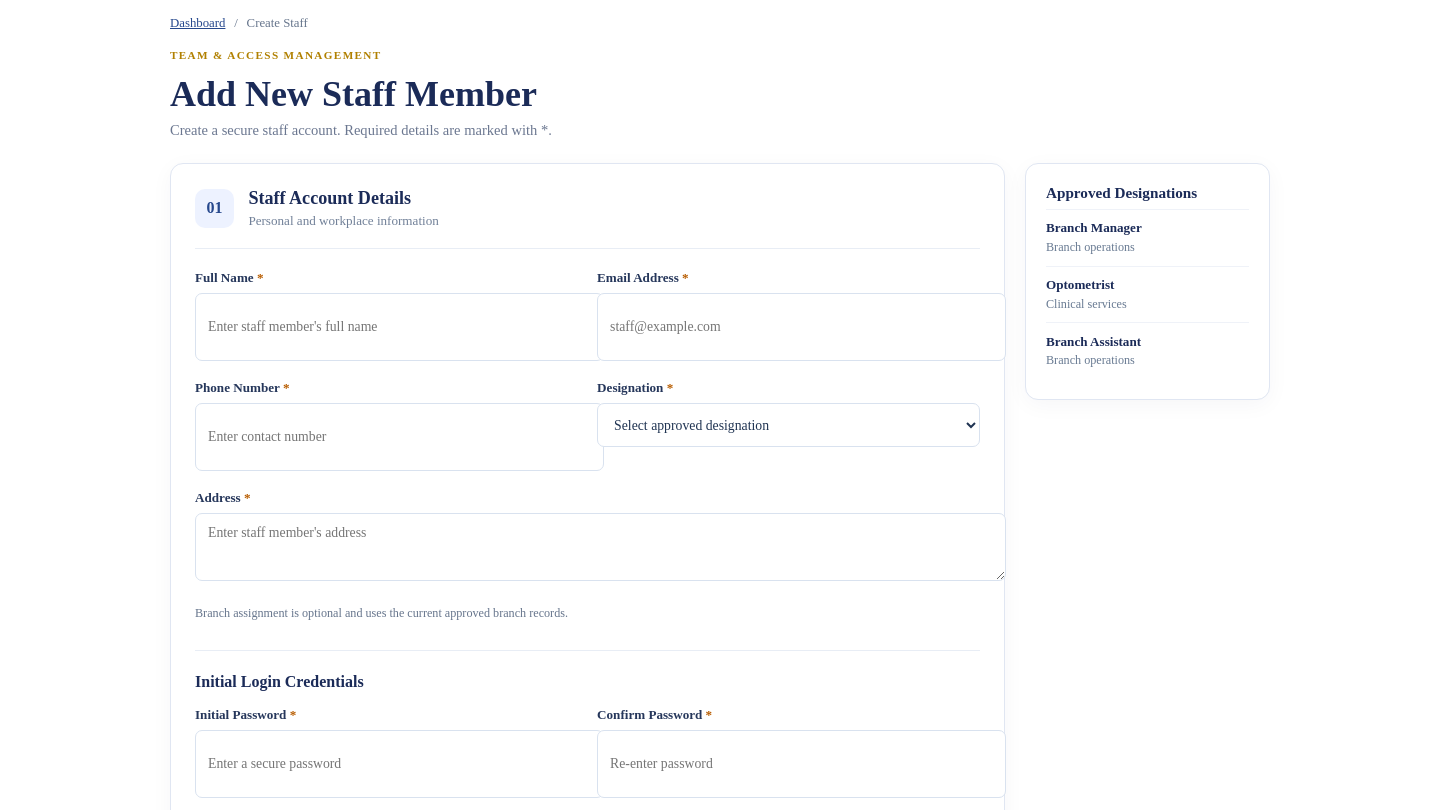
Test case: AdminStaffCreatePage › submits the approved fields, excludes confirmPassword and shows safe success
Type "Nimal Perera" into the field labelled "Full Name *" at (399,327), box [195,293,604,361]
Type "NIMAL@example.com" into the field labelled "Email Address *" at (802,327), box [597,293,1006,361]
Type "0771234567" into the field labelled "Phone Number *" at (399,437), box [195,403,604,471]
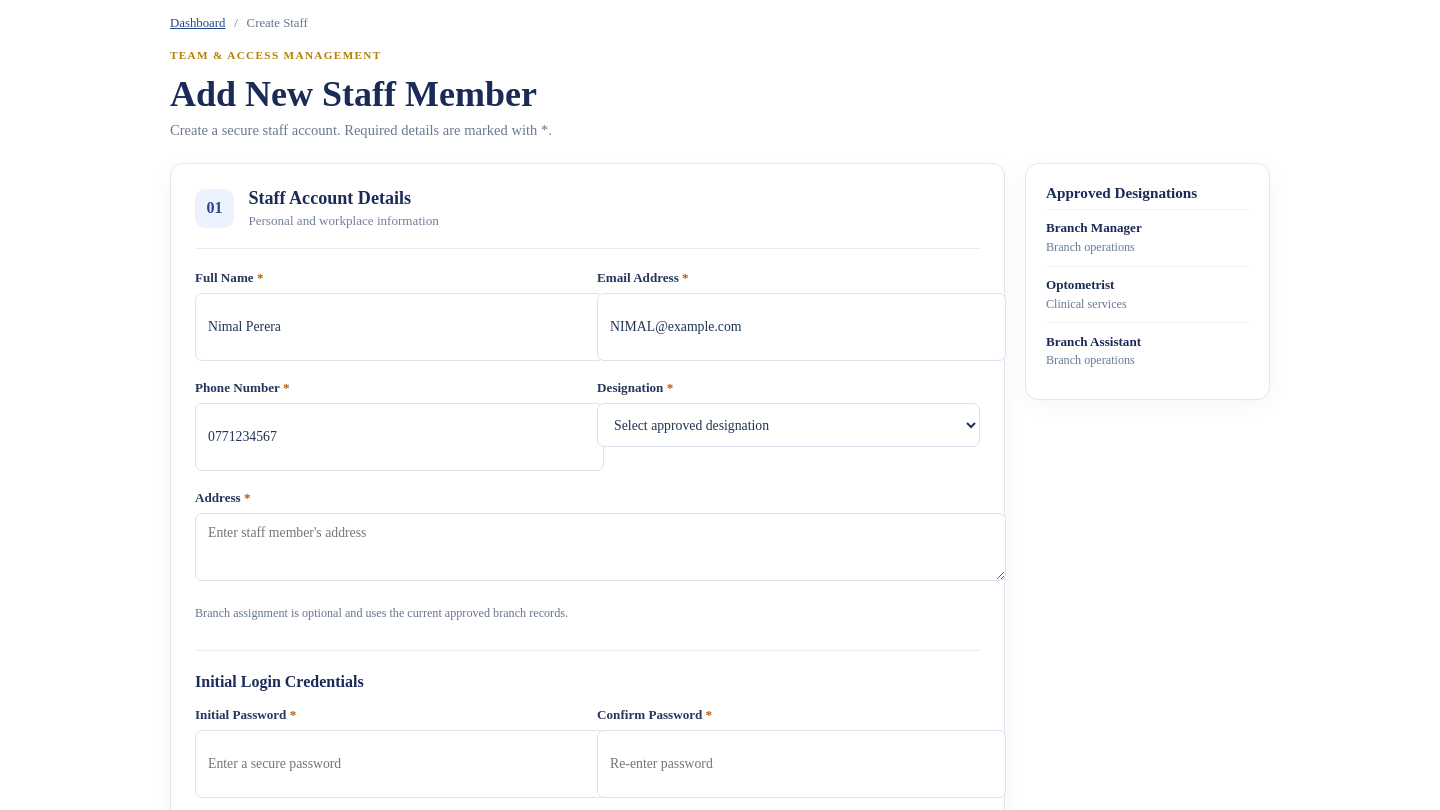
Type "15 Main Street" into the text box labelled "Address *" at (600,547), box [195,513,1006,581]
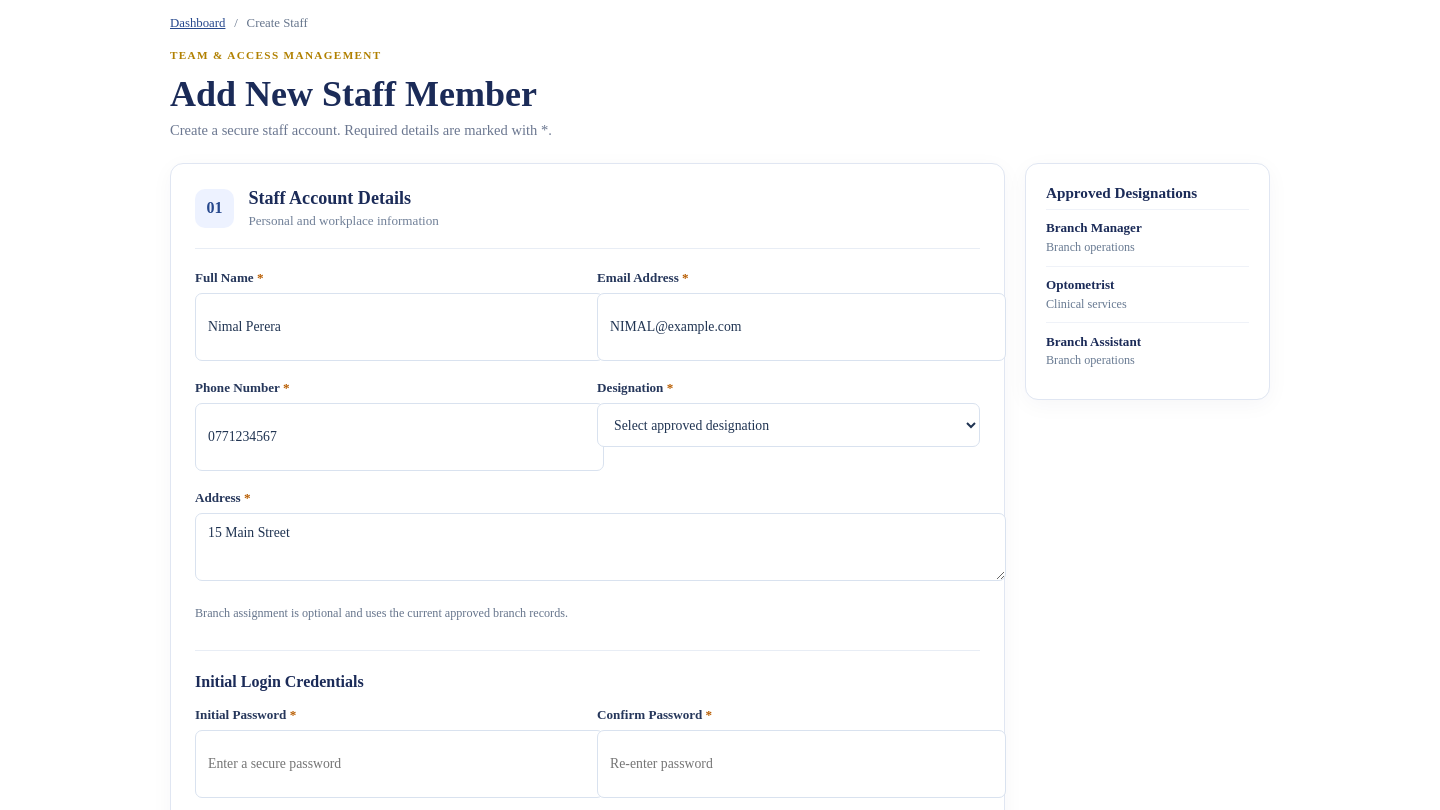
Select "Optometrist" in the dropdown labelled "Designation *" at (789,425), box [597,403,980,447]
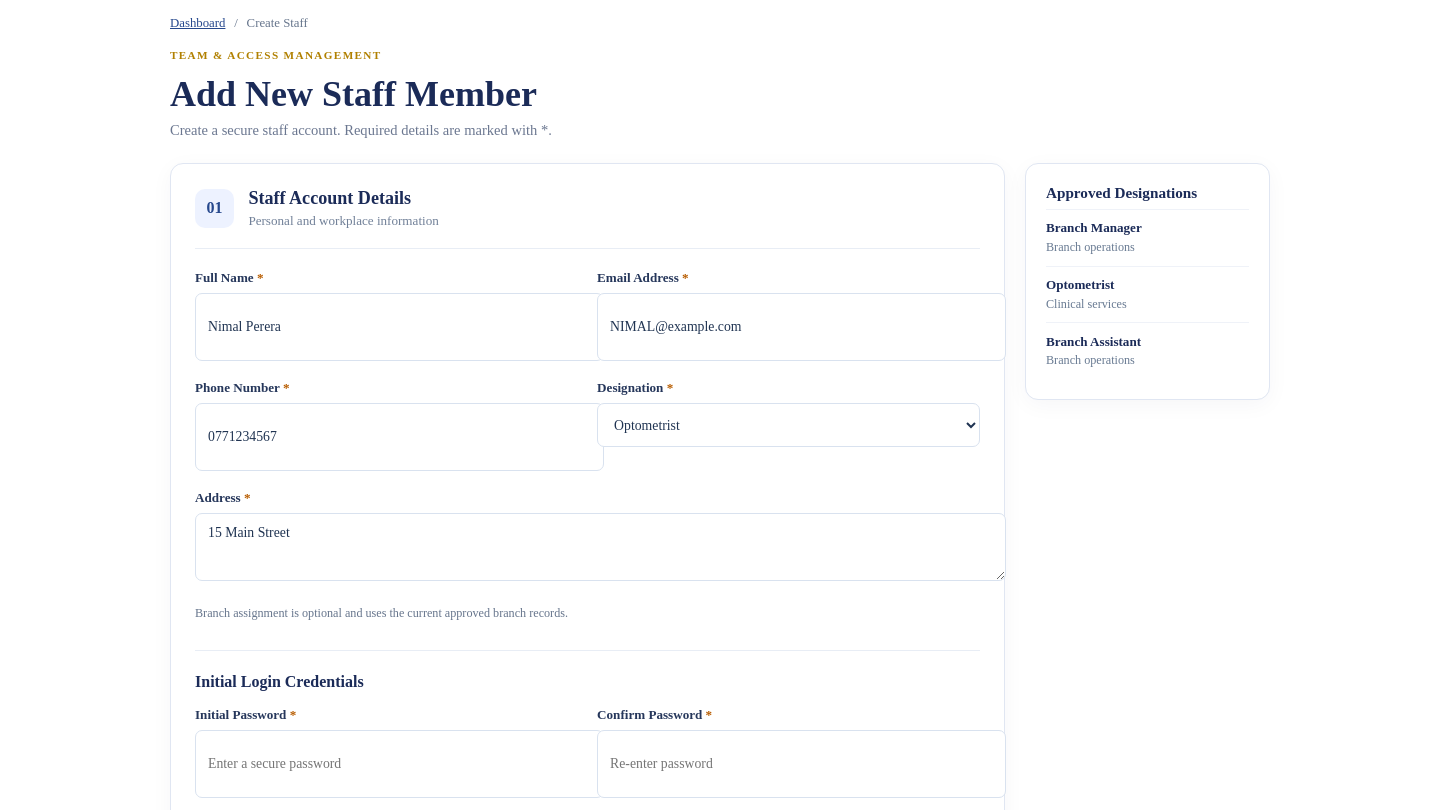
Type "Secure123" into the password field labelled "Initial Password *" at (399,764), box [195,730,604,798]
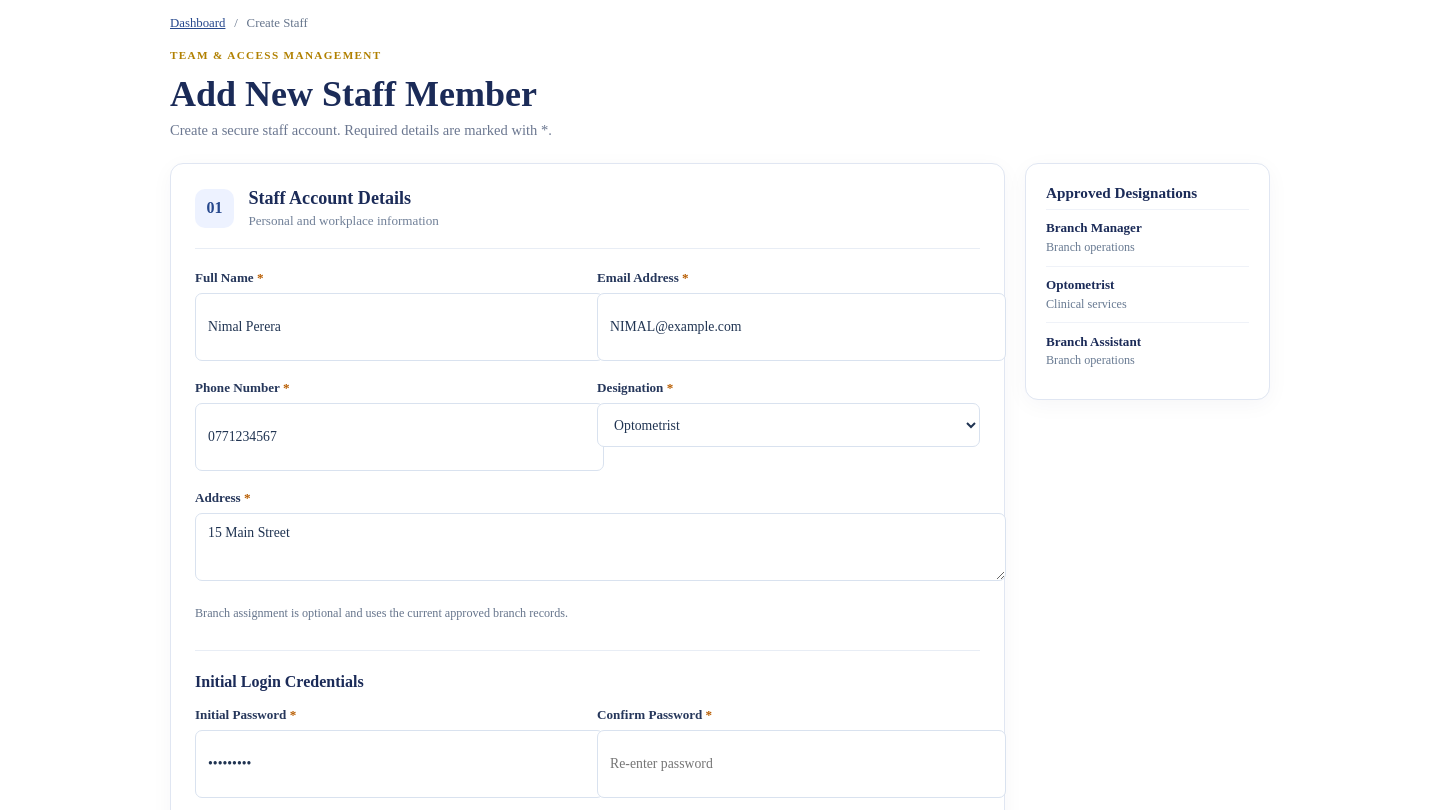
Type "Secure123" into the password field labelled "Confirm Password *" at (802,764), box [597,730,1006,798]
(page scrolled)
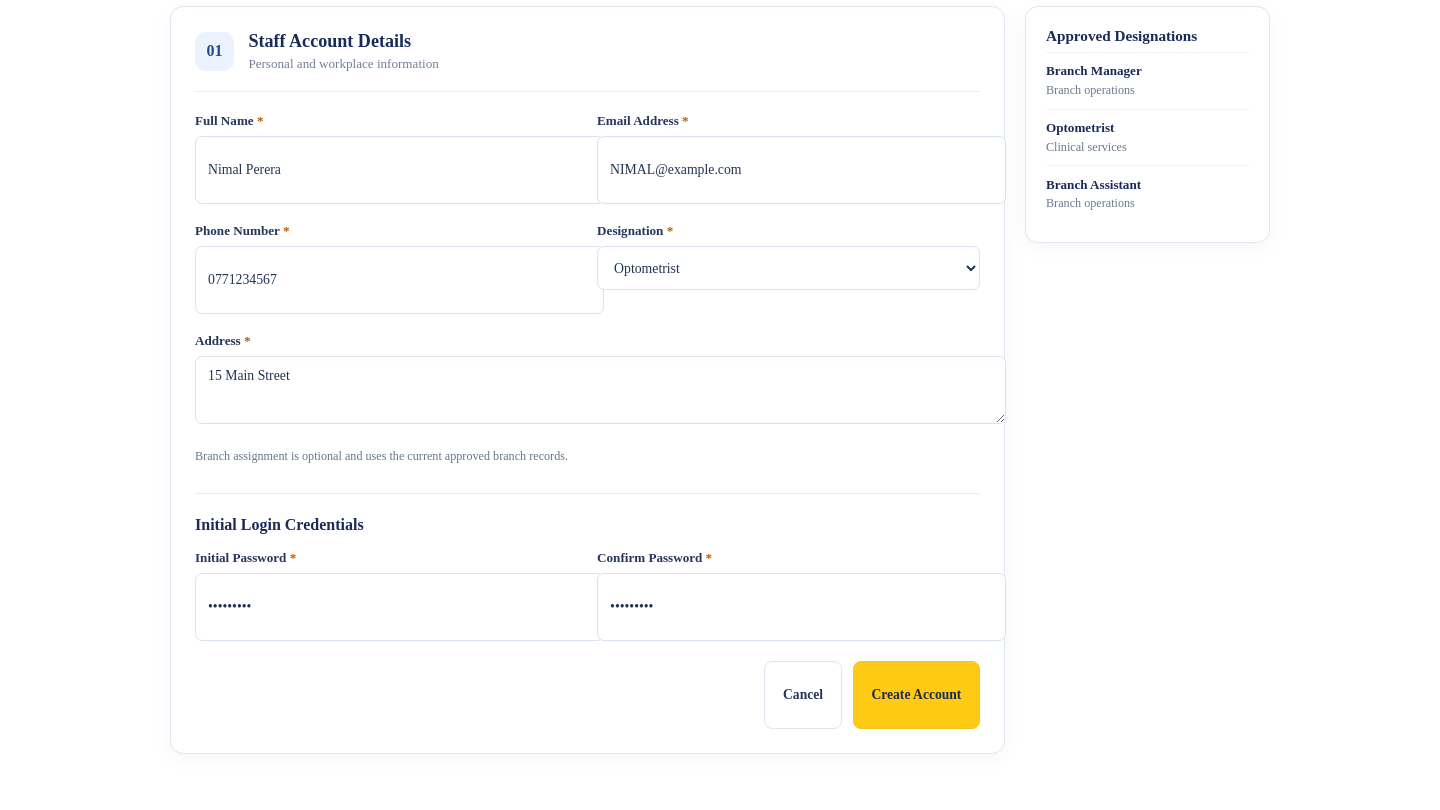
Click the button "Create Account" at (916,695), box [853,661,980,729]
(page scrolled)
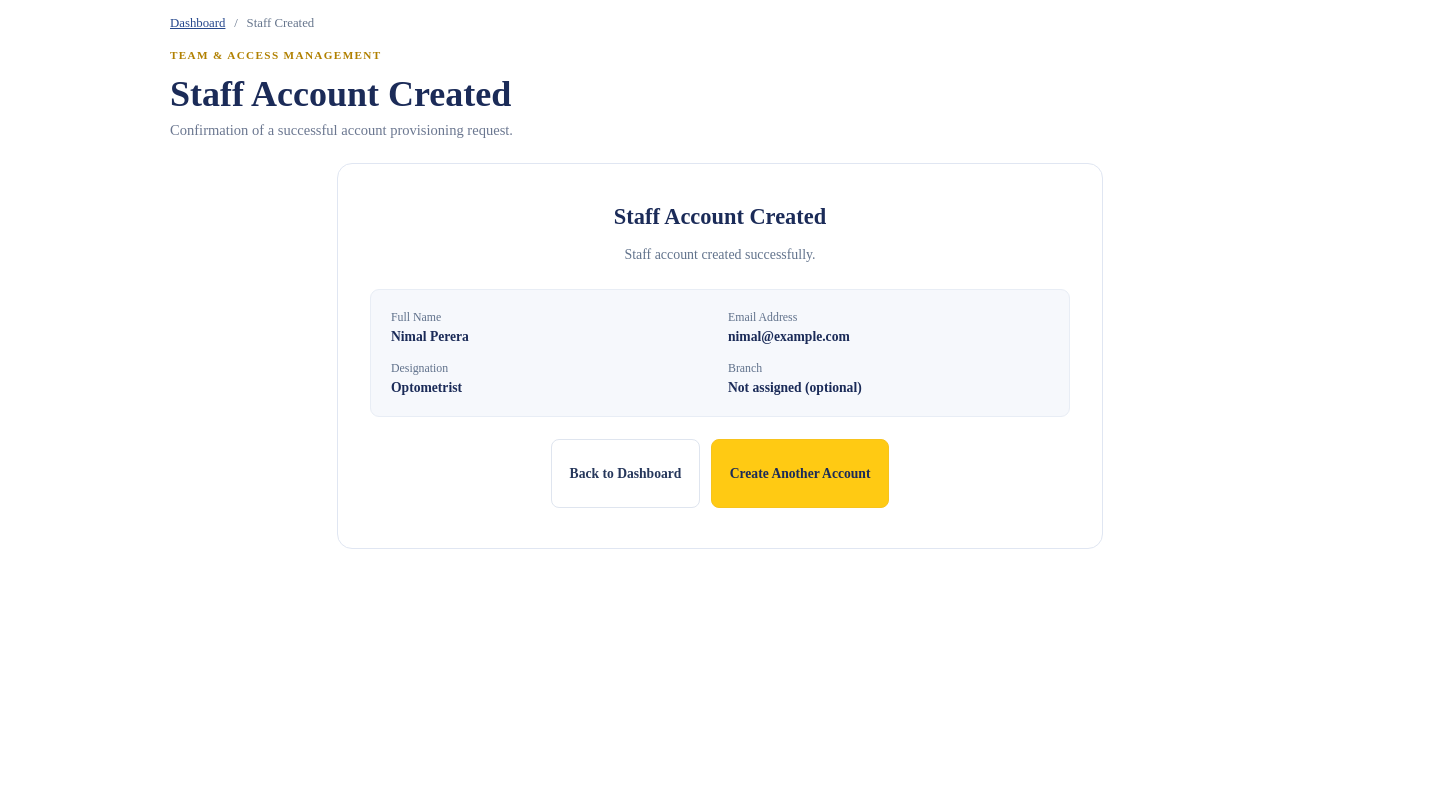
Expected: the heading "Staff Account Created" below "TEAM & ACCESS MANAGEMENT" is shown, [170,74,511,114]
Expected: the text "nimal@example.com" is shown, [728,329,850,344]
